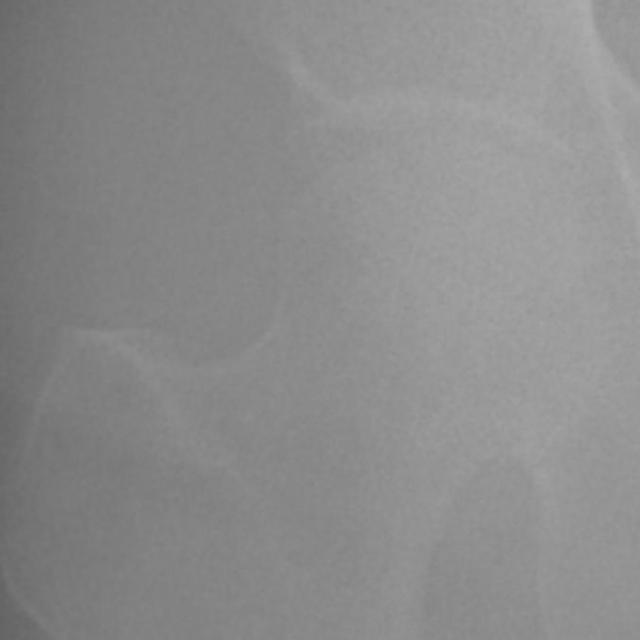Fitted_femural_head: (354, 137, 432, 354)
